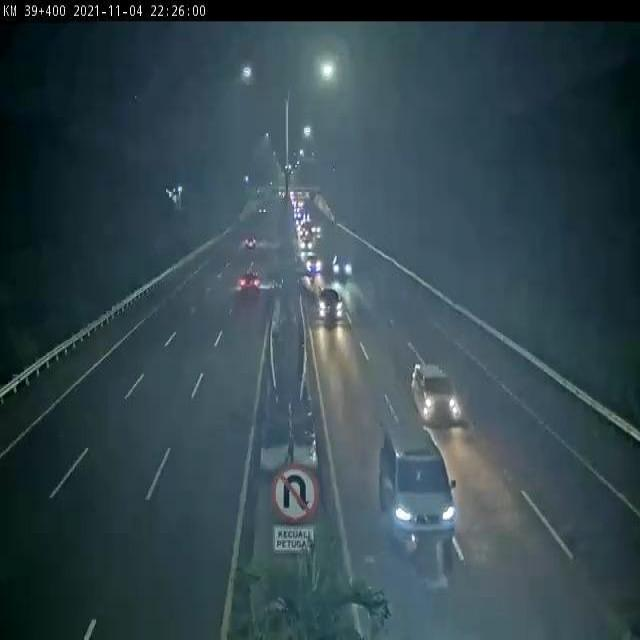car: (379, 424, 462, 555), (405, 358, 471, 433), (311, 287, 353, 328), (229, 262, 267, 302), (326, 245, 364, 284), (239, 229, 264, 255), (299, 254, 326, 278), (293, 234, 318, 254)
